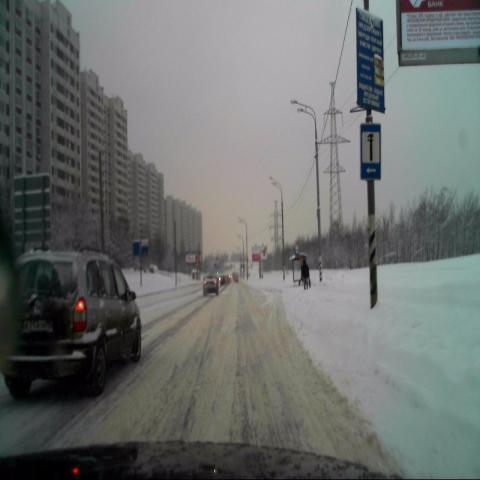7_4: (360, 121, 382, 179)
